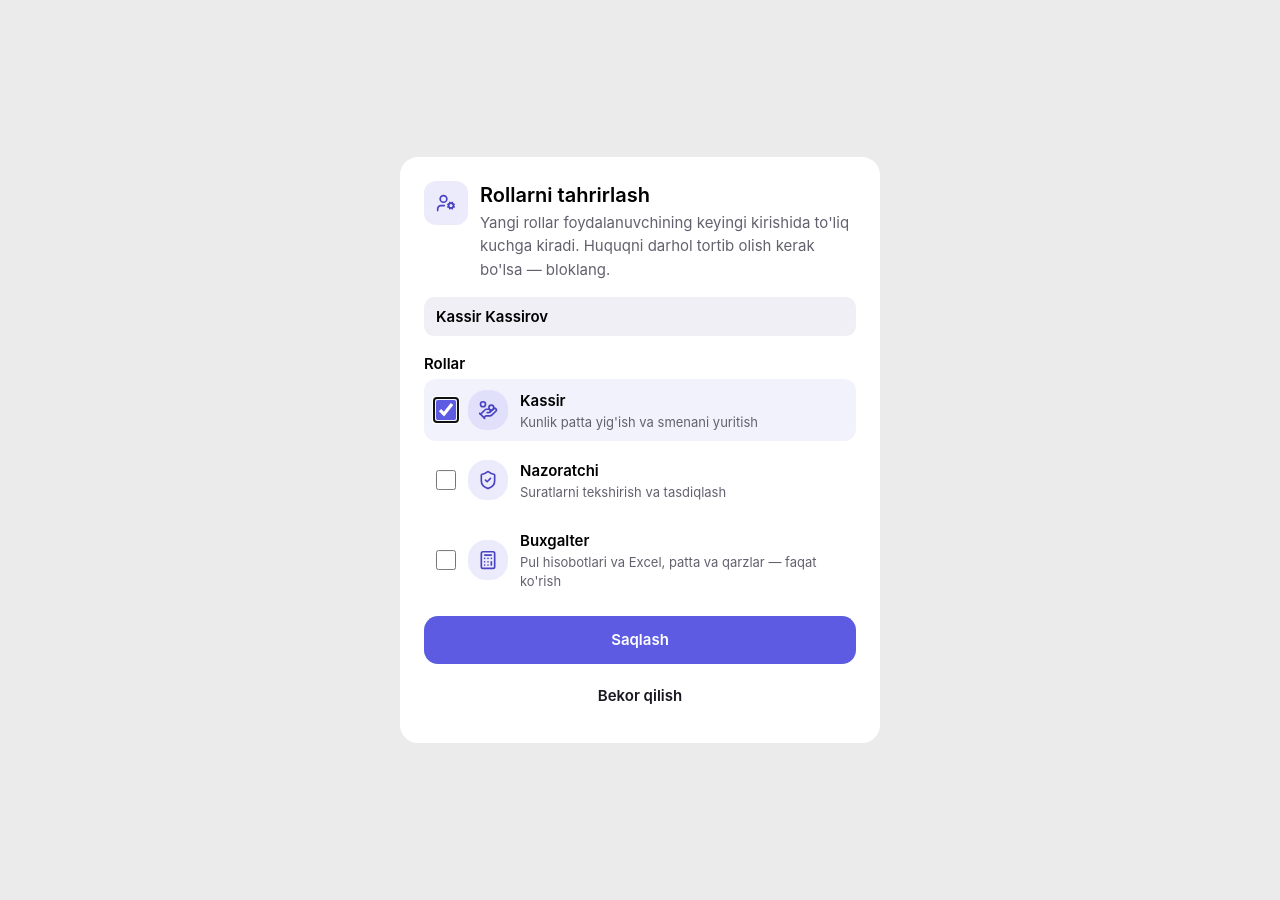
birorta rol tanlanmagan holda saqlash › xatoni TUZATGANDA xabar YO'QOLADI (0 -> 1 o'tishi)
The width and height of the screenshot is (1280, 900).
Click the checkbox labelled "Kassir" at x=446, y=410, box [436,400,456,420]
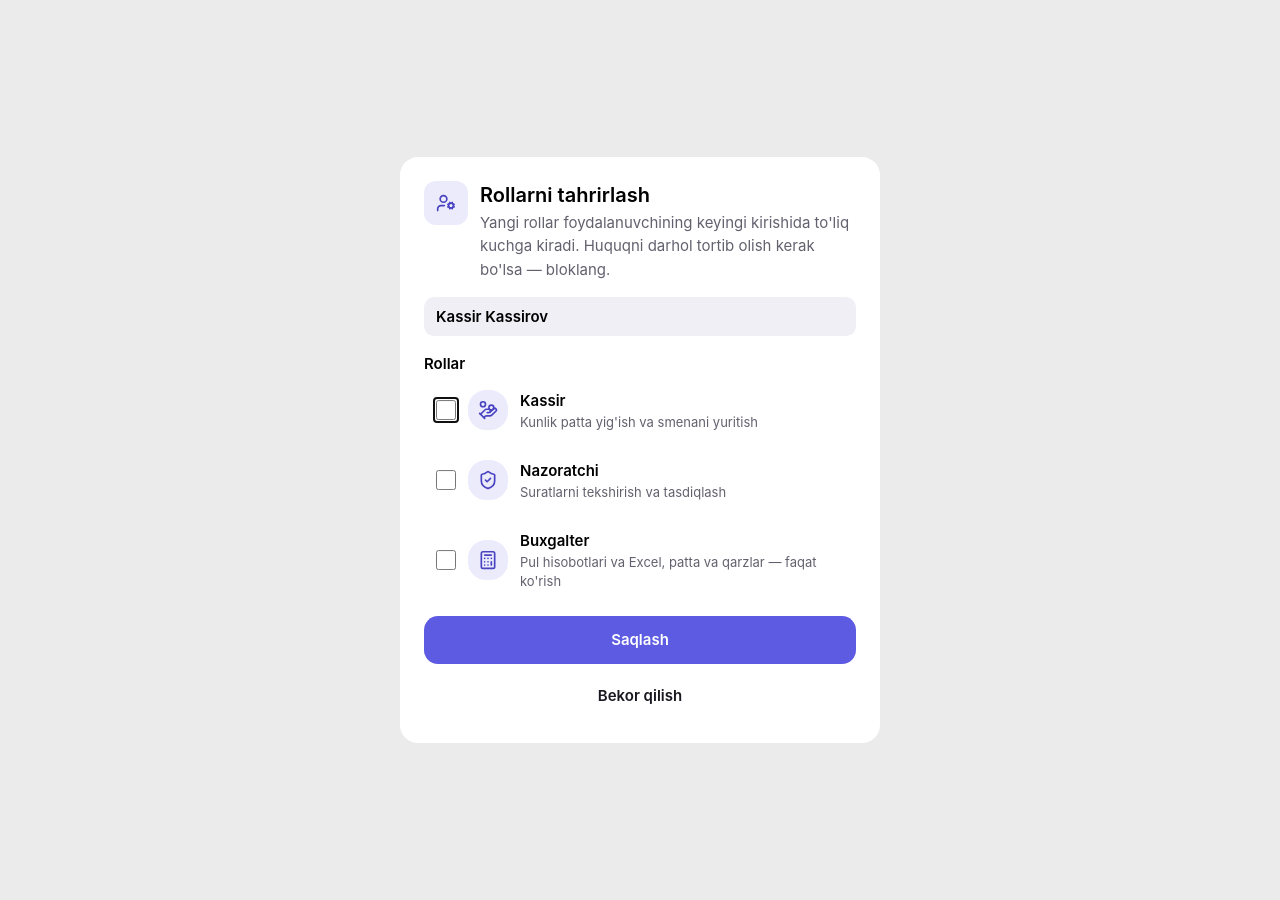
Click the button "Saqlash" at x=640, y=640, box [424,616,856,664]
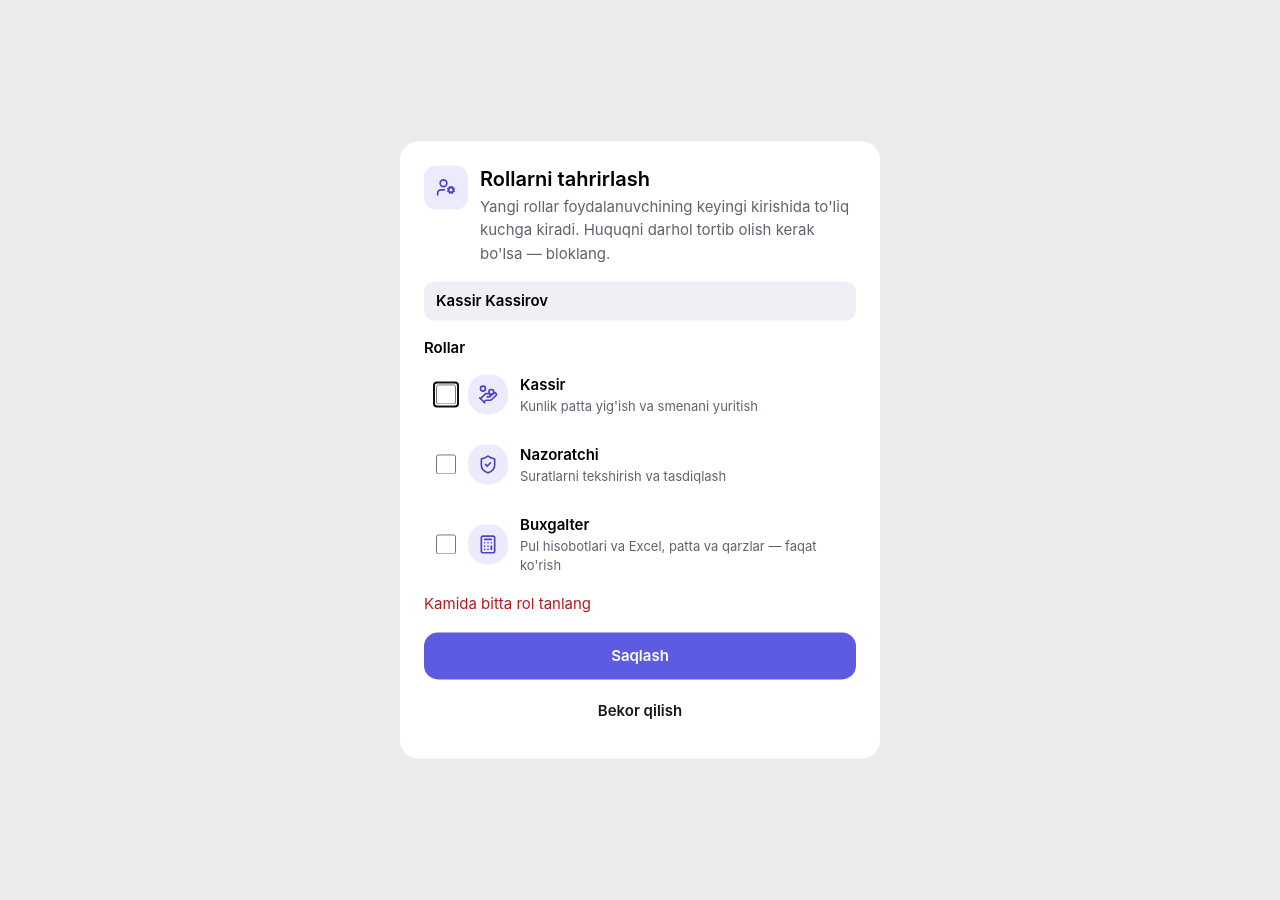
Expected: the text "Kamida bitta rol tanlang" is shown, [424,595,591,614]
Click the checkbox labelled "Nazoratchi" at x=446, y=465, box [436,455,456,475]
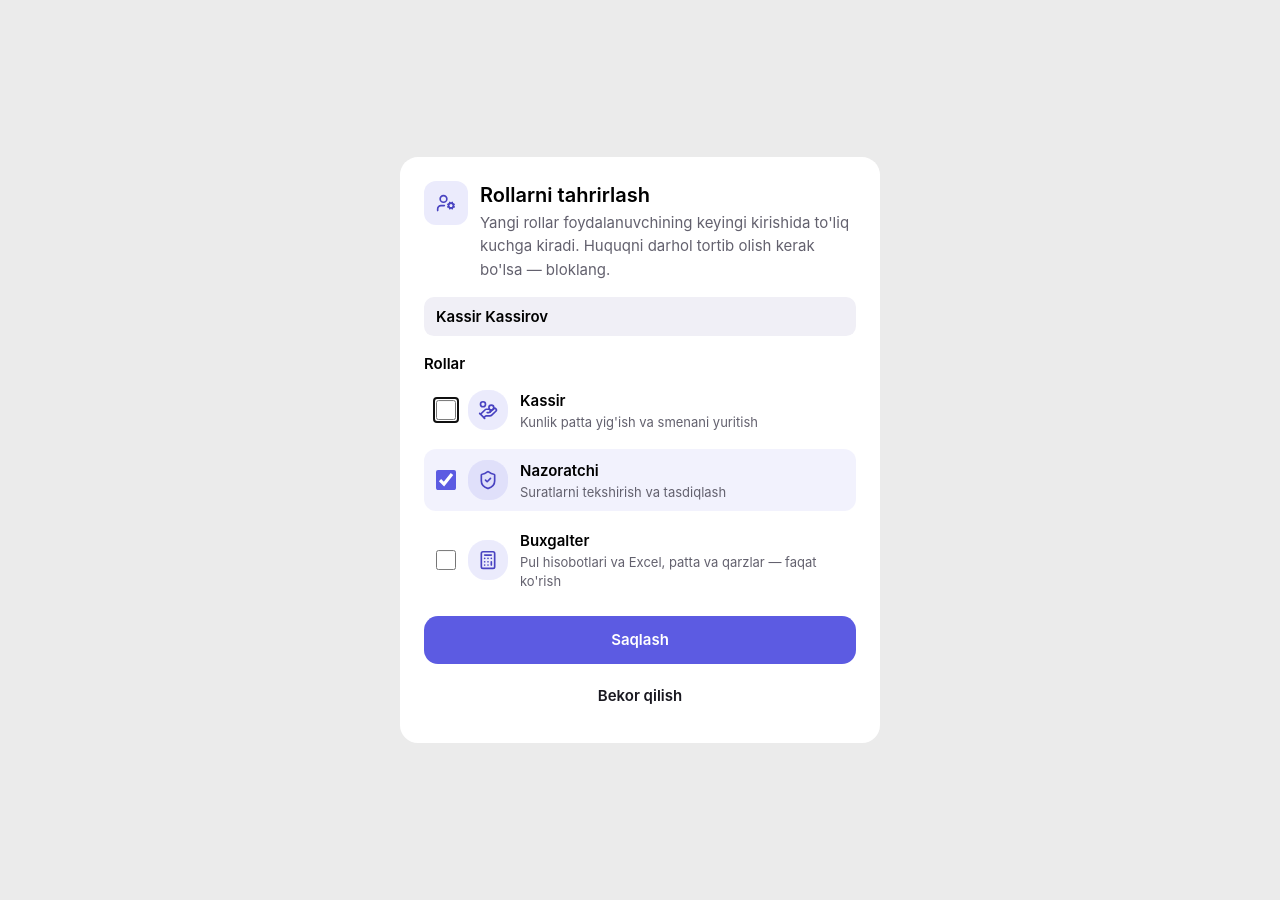
Expected: the text "Kamida bitta rol tanlang" is gone
